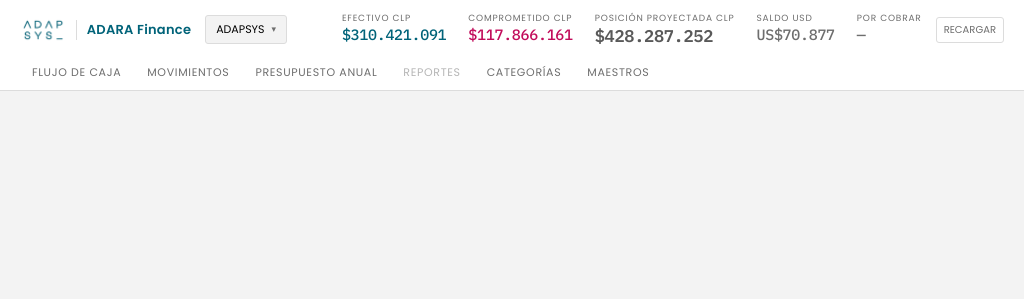
Test: Chrome › el selector de empresas abre y filtra
Click the button "ADAPSYS ▾": (246, 30) [205, 15, 287, 44]
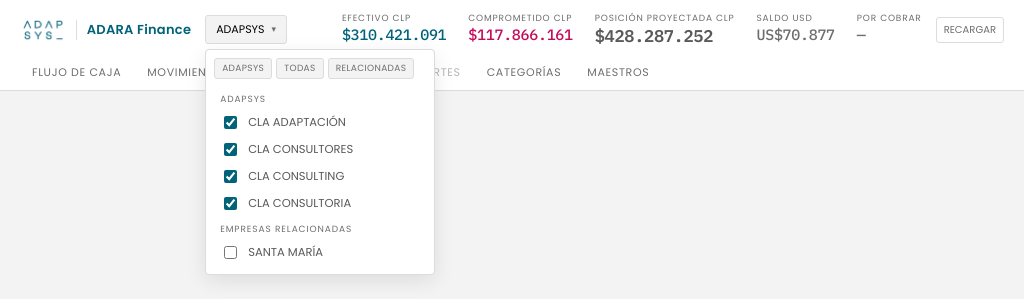
Expected: the text "Empresas relacionadas" is shown, [220, 223, 352, 235]
Expected: the button "Todas" is shown, [276, 58, 324, 79]
